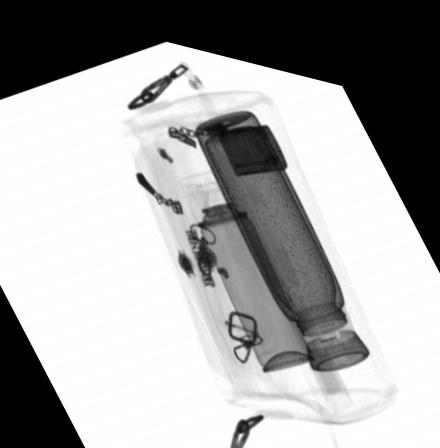Lighter: (216, 112, 287, 163)
Sprayer: (177, 156, 314, 360)
